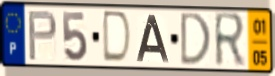5: (60, 10, 89, 63)
A: (135, 13, 172, 65)
D: (179, 11, 213, 68), (101, 9, 134, 66)
P: (27, 9, 59, 62)
R: (213, 11, 248, 71)
